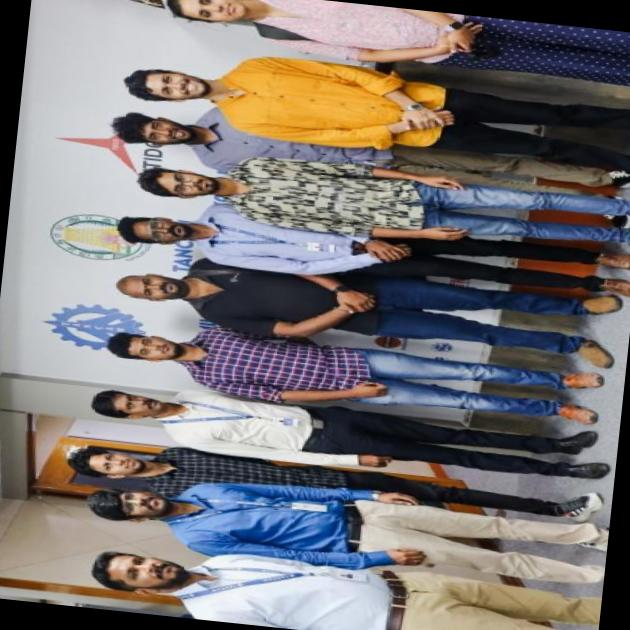there is a person: (95, 469, 564, 574), (180, 226, 520, 346), (102, 532, 512, 630), (245, 140, 580, 258), (213, 48, 534, 150), (66, 372, 420, 464), (174, 0, 565, 65), (181, 323, 434, 406)
